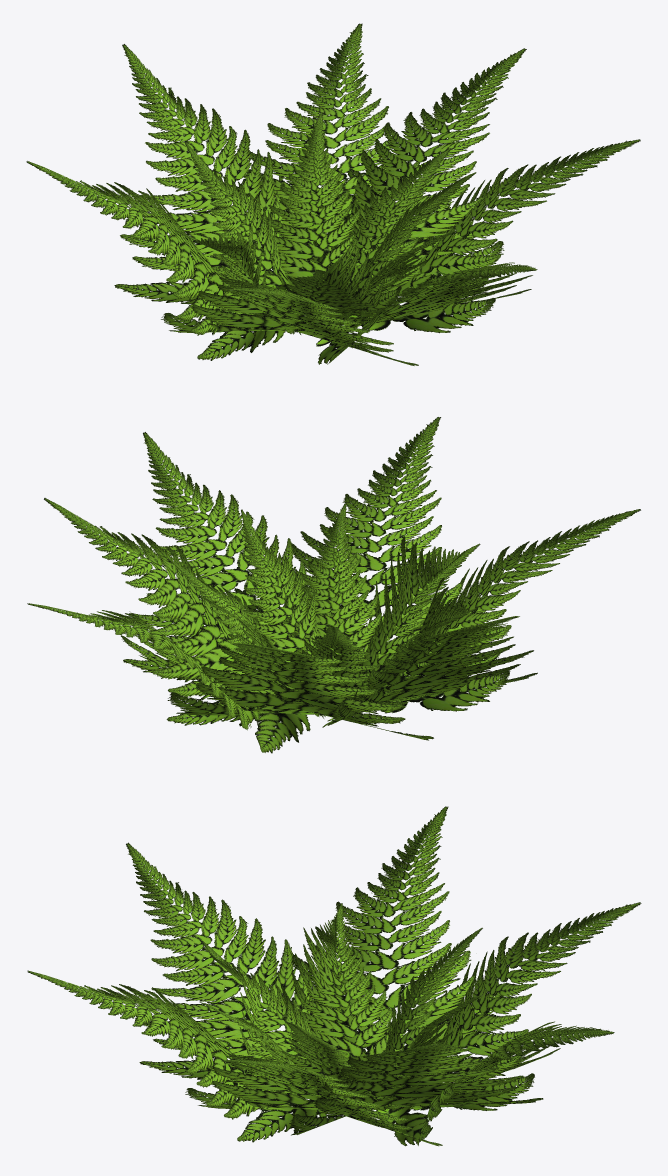
The model's file is LowBushShape.dae.
3 views of the same model, one above another, from view 1: azimuth 30°, elevation 25°; view 2: azimuth 150°, elevation 25°; view 3: azimuth 270°, elevation 25° (orthographic). The views are drawn at different scales.
Visible parts, largest first — view 1: LowBush; view 2: LowBush; view 3: LowBush.
Boxes of the visible parts, <box> form: LowBush: <box>26,23,640,365</box>; LowBush: <box>27,417,640,753</box>; LowBush: <box>27,806,641,1146</box>.
Size of the model in its own units: 15.55 by 5.73 by 16.99.
